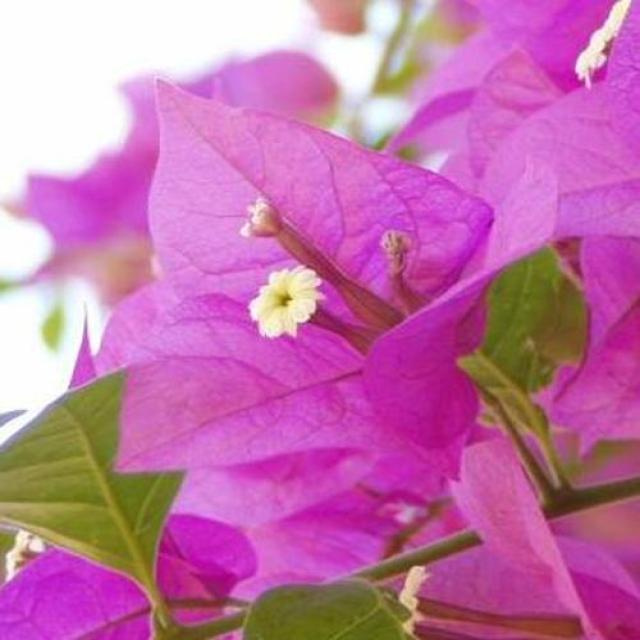bougainvillea: (61, 49, 637, 582)
